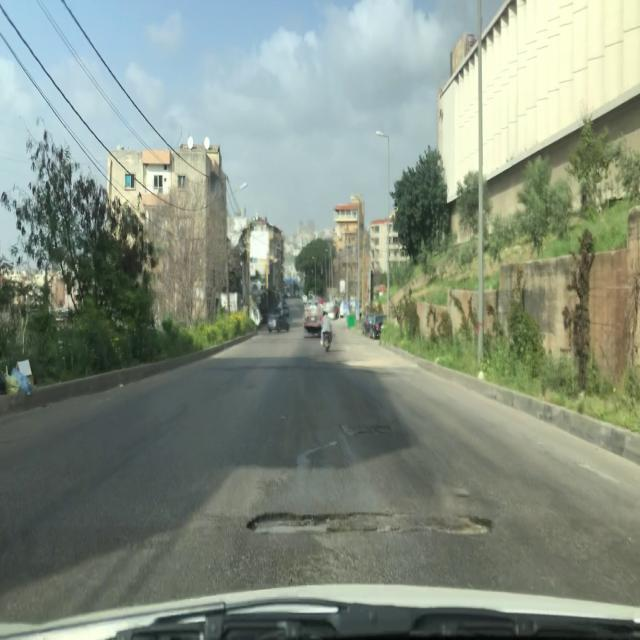Buraco: (243, 506, 498, 540)
